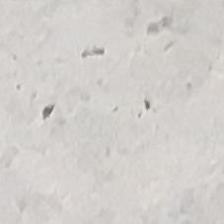Non_Crack: (27, 36, 180, 216)
